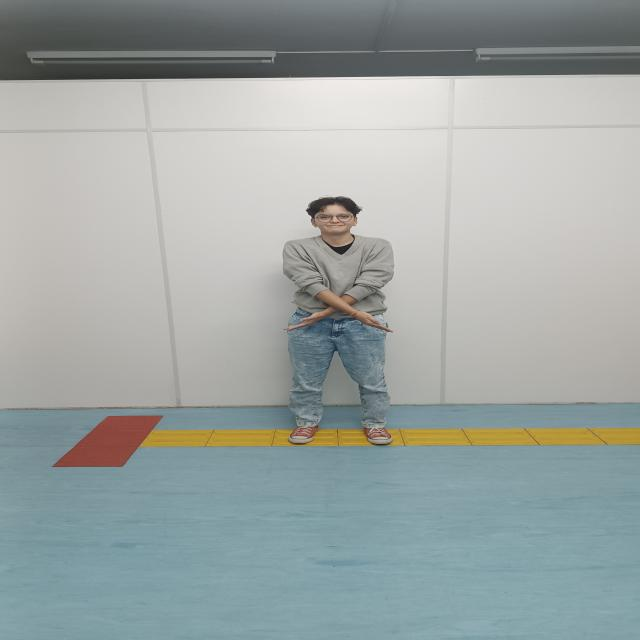land: (284, 196, 395, 445)
